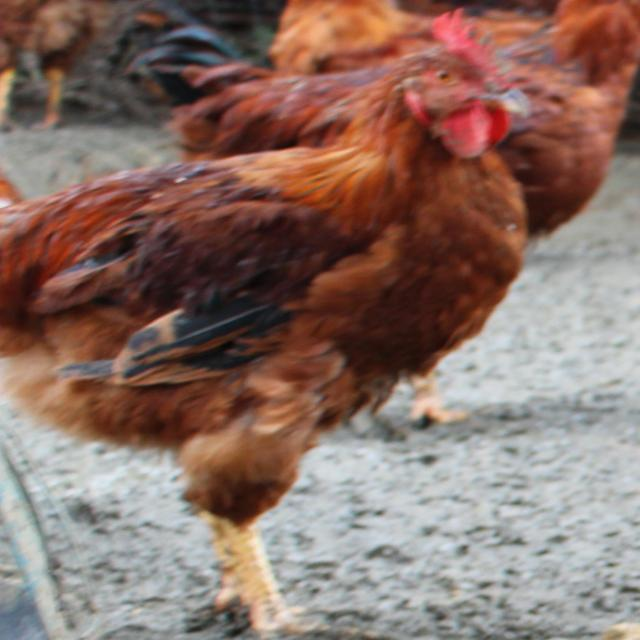cook: (2, 16, 524, 631)
